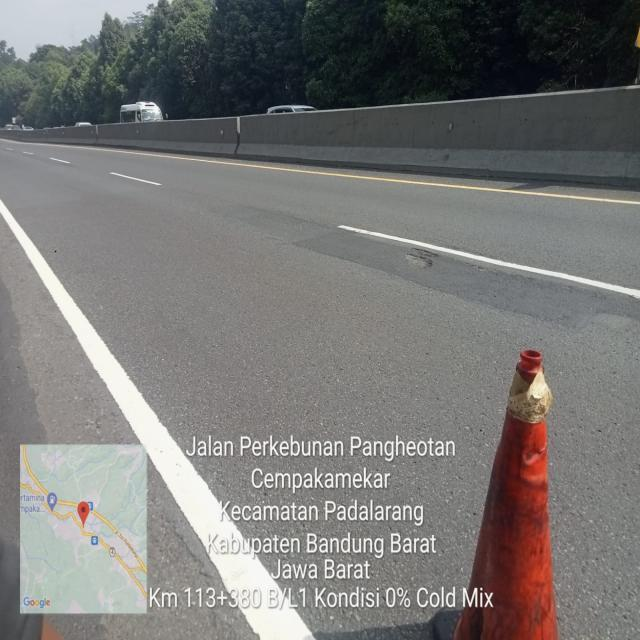Buraco: (402, 246, 441, 272)
